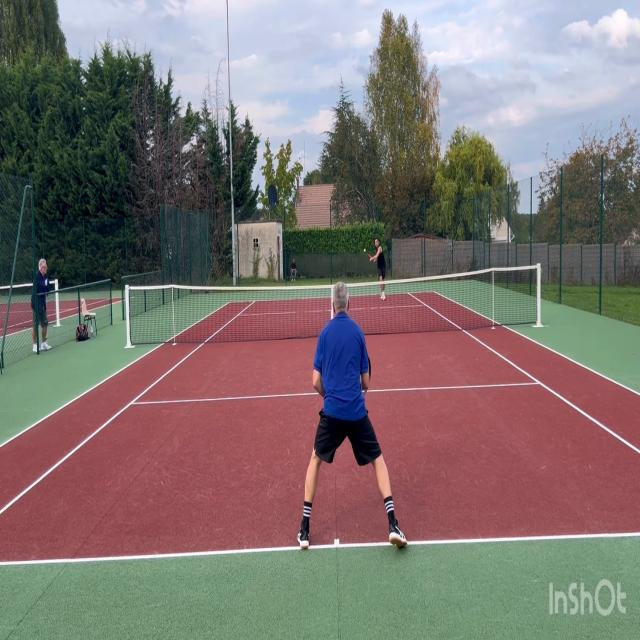ball: (363, 248, 366, 253)
